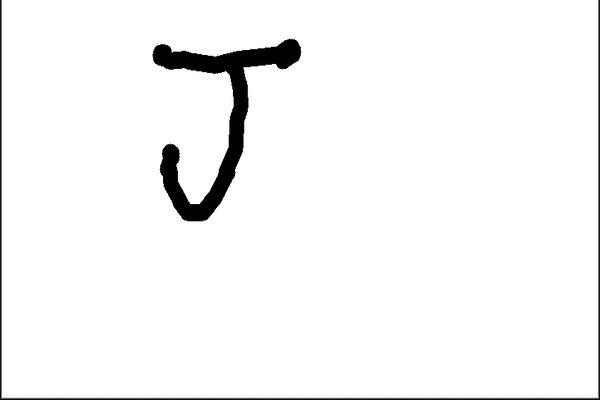J: (144, 33, 305, 224)
